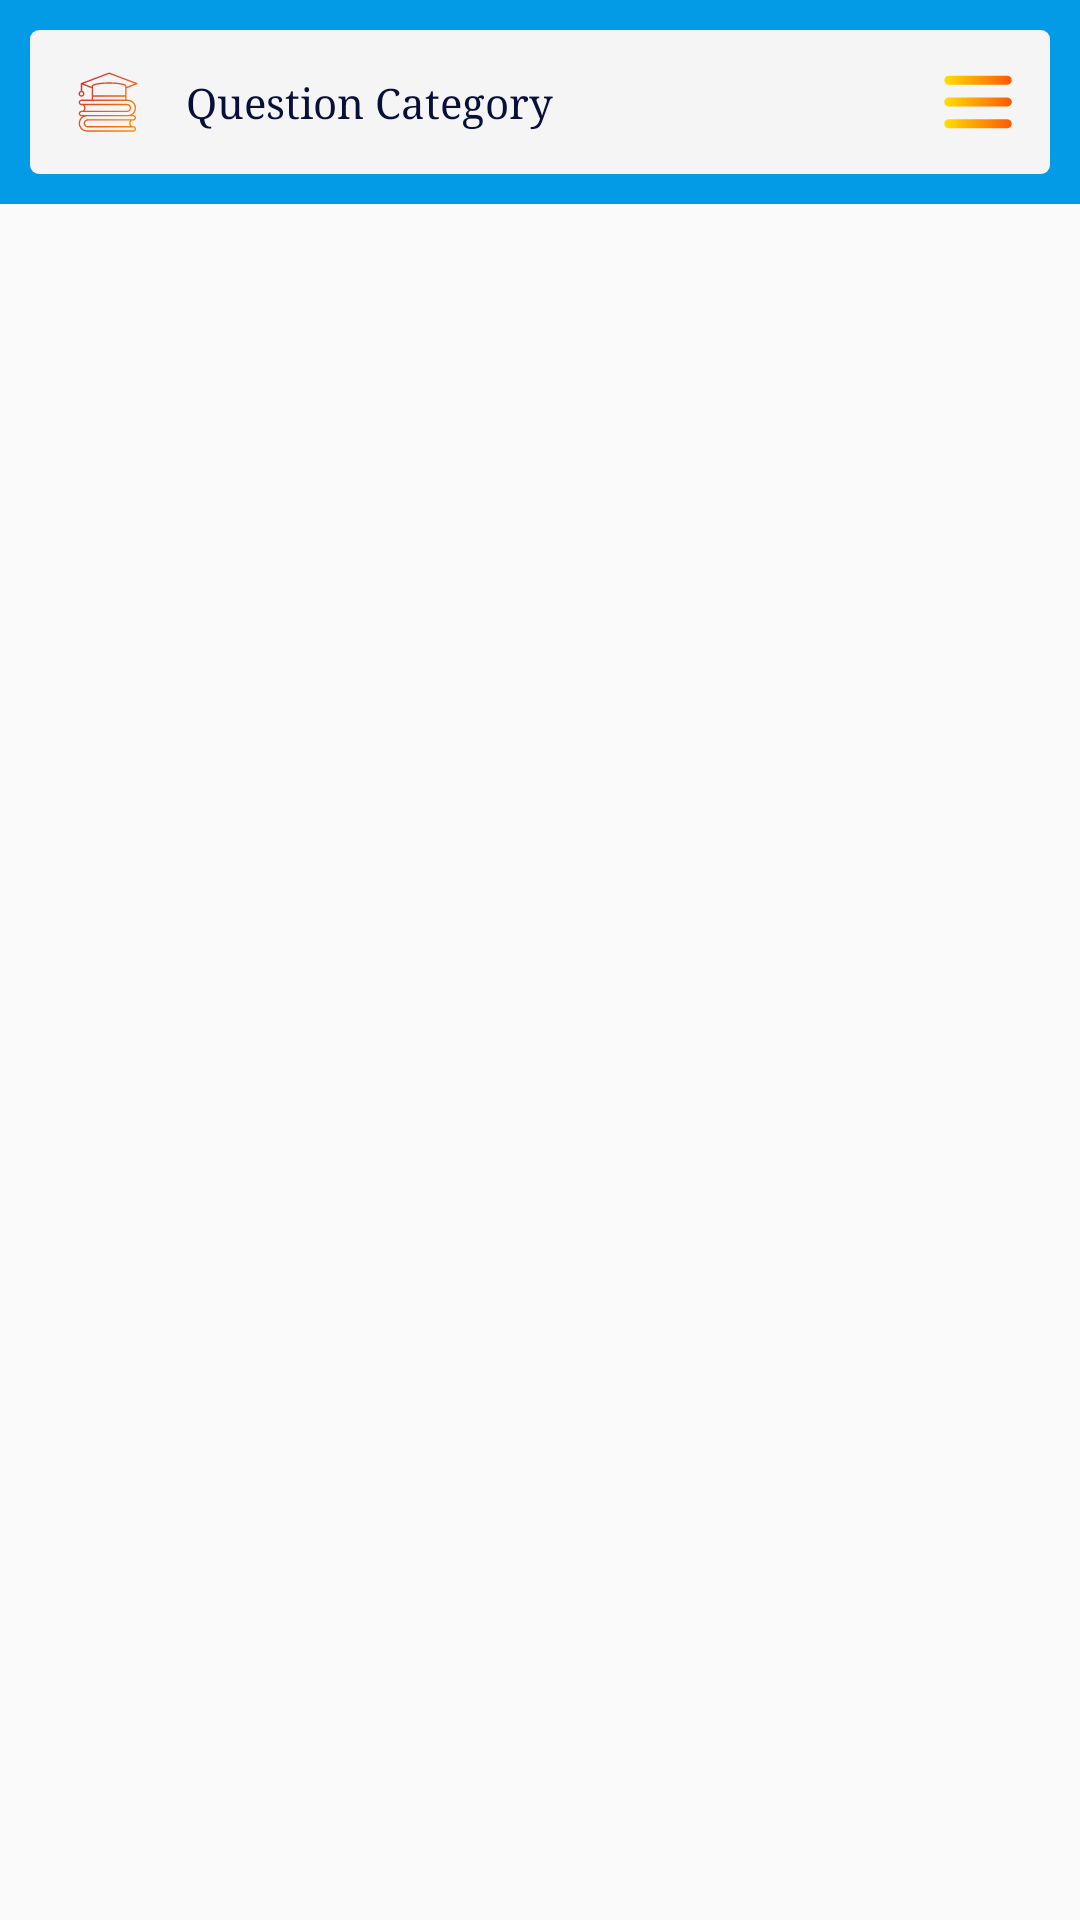

Where to tap for icons on this 1080px x 1920px app screen, as point (x, y):
question bank: point (108, 102)
